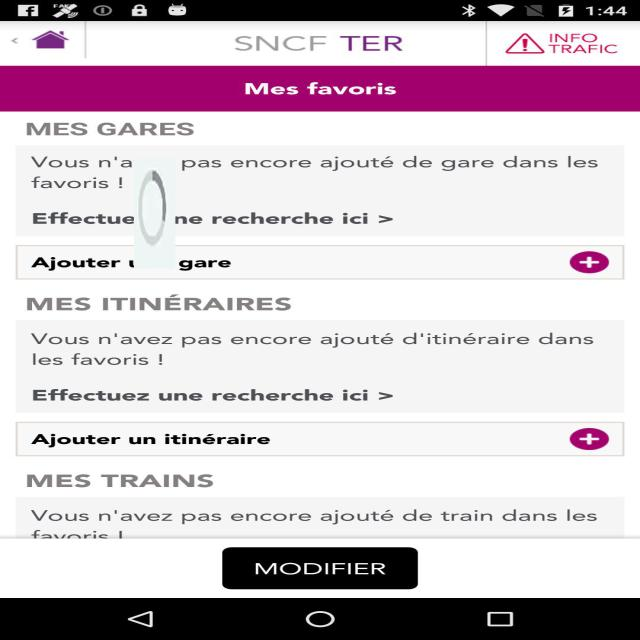misdirection: (134, 158, 175, 269)
